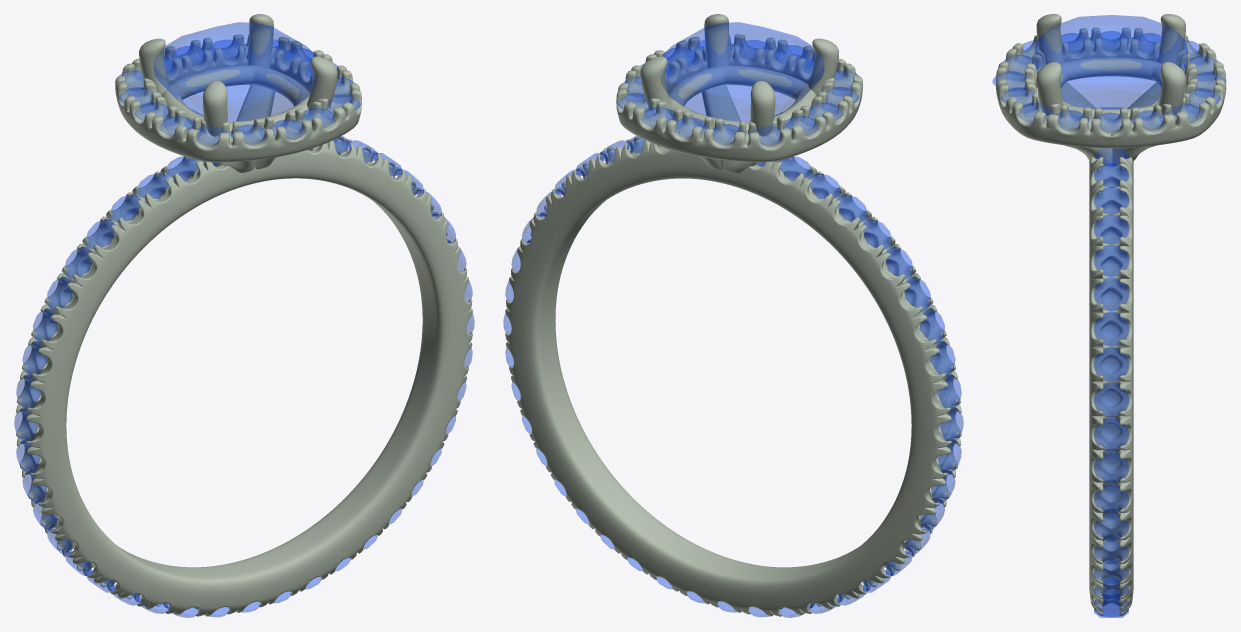
File: try2.glb
3 renders of one model, left to right at view 1: azimuth 30°, elevation 25°; view 2: azimuth 150°, elevation 25°; view 3: azimuth 270°, elevation 25°, orthographic.
Visible parts, largest first — view 1: ring, diamonds; view 2: ring, diamonds; view 3: ring, diamonds.
Boxes of the visible parts, <box> form: ring: <box>16,14,472,616</box>; diamonds: <box>14,22,474,617</box>; ring: <box>505,14,961,616</box>; diamonds: <box>503,22,963,617</box>; ring: <box>996,14,1226,615</box>; diamonds: <box>992,15,1226,617</box>.
Size of the model in its own units: 1.8 by 2.17 by 0.8249.
